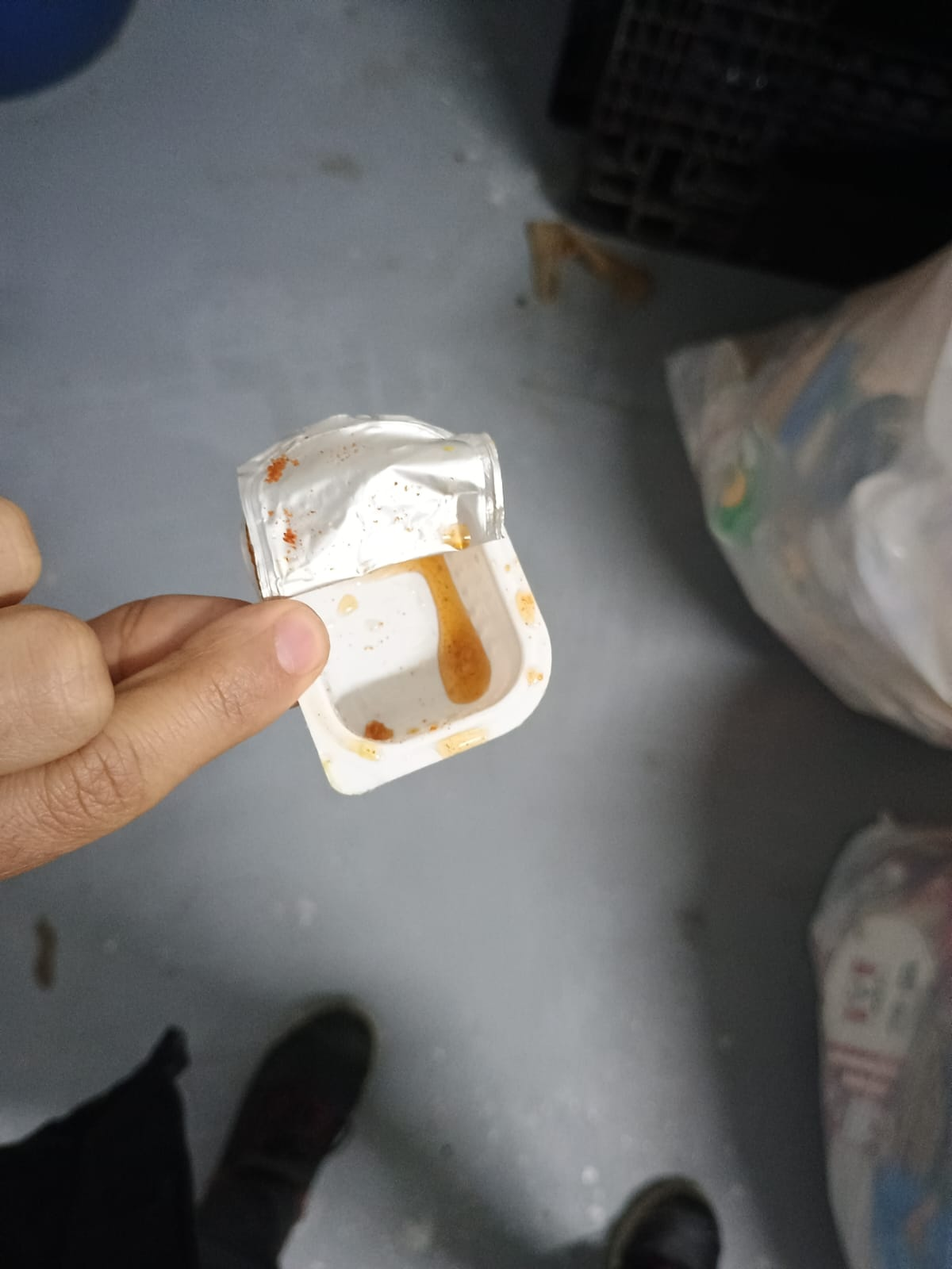Ordinario: (234, 409, 556, 800)
